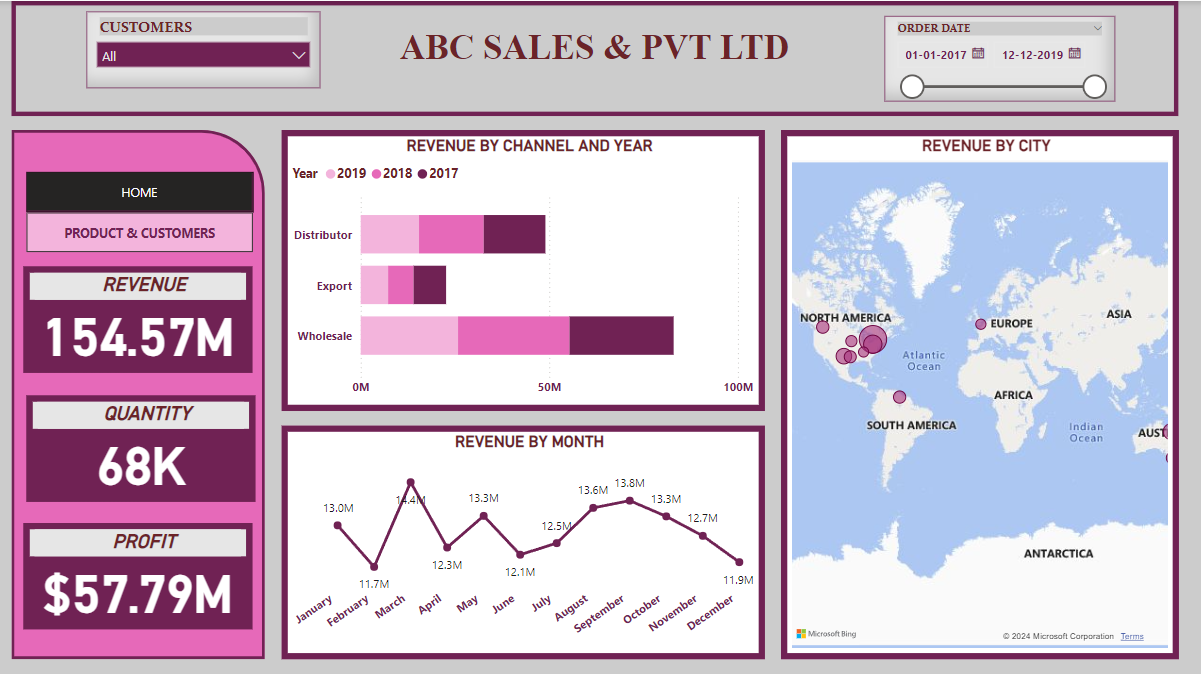

The dashboard page shown, as its layout file describes it:
{"tool":"powerbi","page":{"name":"HOME","canvas":[1280,720],"ordinal":0},"visuals":[{"type":"textbox","box":[14.8,0,1237,122.2],"z":0},{"type":"slicer","fields":{"Values":["Customer_Data.Customer Names"]},"box":[94.4,11.1,248.1,81.5],"z":1000},{"type":"slicer","fields":{"Values":["Sales_Data.OrderDate"]},"box":[940.7,16.7,244.4,90.7],"z":2000},{"type":"shape","box":[14.8,137,268.5,561.1],"z":3000},{"type":"card","title":"REVENUE","fields":{"Values":["Sum(Sales_Data.Total Revenue)"]},"box":[27.8,281.5,242.6,113],"z":4000},{"type":"card","title":"PROFIT","fields":{"Values":["Sum(Sales_Data.PROFIT)"]},"box":[27.8,553.7,242.6,113],"z":5000},{"type":"card","title":"QUANTITY","fields":{"Values":["Sum(Sales_Data.Order Quantity)"]},"box":[29.6,418.5,242.6,113],"z":6000},{"type":"barChart","title":"REVENUE BY CHANNEL AND YEAR","fields":{"Y":["Sum(Sales_Data.Total Revenue)"],"Category":["Sales_Data.Channel"],"Series":["Sales_Data.OrderDate.Variation.Date Hierarchy.Year"]},"box":[300,137,513,298.1],"z":7000},{"type":"map","title":"REVENUE BY CITY","fields":{"Size":["Sum(Sales_Data.Total Revenue)"],"Category":["Regions_Table.City"]},"box":[829.6,137,422.2,561.1],"z":8000},{"type":"pageNavigator","box":[29.6,181.5,240.7,42.6],"z":8001},{"type":"pageNavigator","box":[29.6,224.1,240.7,42.6],"z":8002},{"type":"lineChart","title":"REVENUE BY MONTH","fields":{"Y":["Sum(Sales_Data.Total Revenue)"],"Category":["Sales_Data.OrderDate.Variation.Date Hierarchy.Month"]},"box":[300,450,513,248.1],"z":8003}]}

Visuals, with their boxes in screenshot pixels (x1, y1, x2, y2), scaled from the page's 1280x720 canvas onto the 1201x674 screenshot:
textbox: bbox(14, 0, 1175, 114)
slicer - Customer_Data.Customer Names: bbox(89, 10, 321, 87)
slicer - Sales_Data.OrderDate: bbox(883, 16, 1112, 101)
shape: bbox(14, 128, 266, 653)
"REVENUE" card: bbox(26, 264, 254, 369)
"PROFIT" card: bbox(26, 518, 254, 624)
"QUANTITY" card: bbox(28, 392, 255, 498)
"REVENUE BY CHANNEL AND YEAR" barChart: bbox(281, 128, 763, 407)
"REVENUE BY CITY" map: bbox(778, 128, 1175, 653)
pageNavigator: bbox(28, 170, 254, 210)
pageNavigator: bbox(28, 210, 254, 250)
"REVENUE BY MONTH" lineChart: bbox(281, 421, 763, 653)
